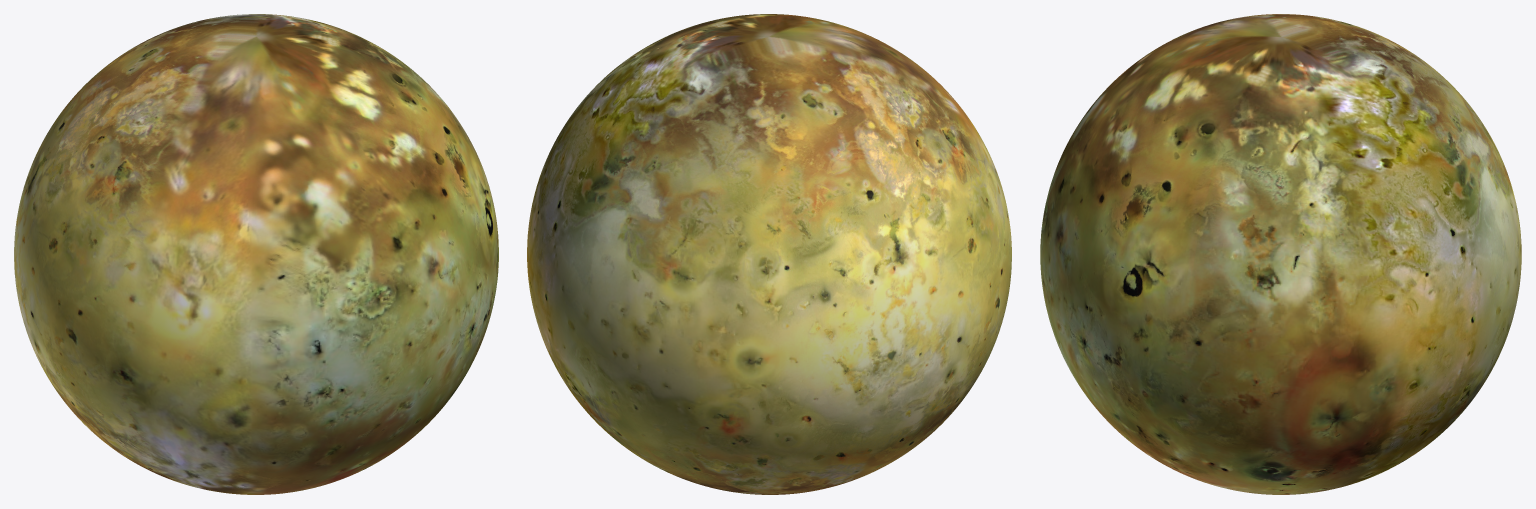
3 views of the same model, side by side, from view 1: azimuth 30°, elevation 25°; view 2: azimuth 150°, elevation 25°; view 3: azimuth 270°, elevation 25° (orthographic).
Visible parts, largest first — view 1: io_globe; view 2: io_globe; view 3: io_globe.
Boxes of the visible parts, box(x1,y1,x2,y2) form: io_globe: box(14, 14, 498, 494); io_globe: box(527, 14, 1011, 494); io_globe: box(1040, 14, 1521, 494).
Size of the model in its own units: 2.01 by 1.99 by 2.
1 material, 1 textured.
